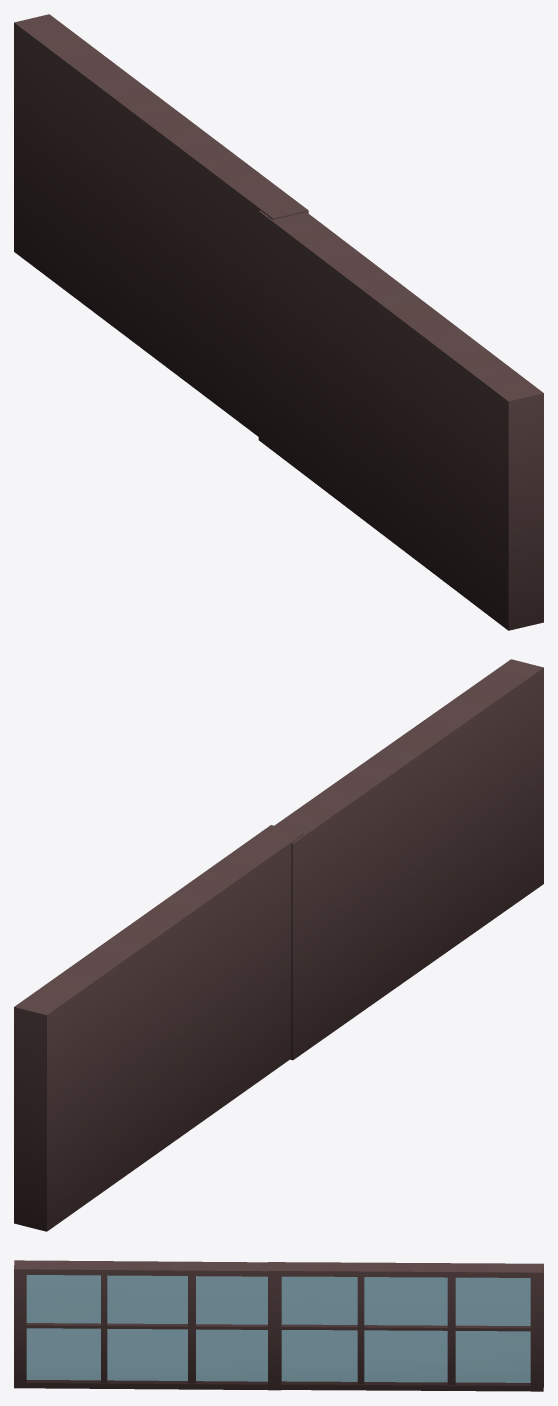
Rendered from JanelaACasa a.fbx.
3 renders of one model, top to bottom at view 1: azimuth 30°, elevation 25°; view 2: azimuth 150°, elevation 25°; view 3: azimuth 270°, elevation 25°, orthographic. The views are drawn at different scales.
Visible parts, largest first — view 1: pCube83; view 2: pCube83; view 3: pCube83.
Part boxes in pixels (left/top/right/bottom): pCube83: left=14, top=14, right=543, bottom=630; pCube83: left=14, top=659, right=543, bottom=1231; pCube83: left=14, top=1260, right=543, bottom=1391.
Bounding box in the file's own units: 0.2129 × 0.9179 × 3.68.
